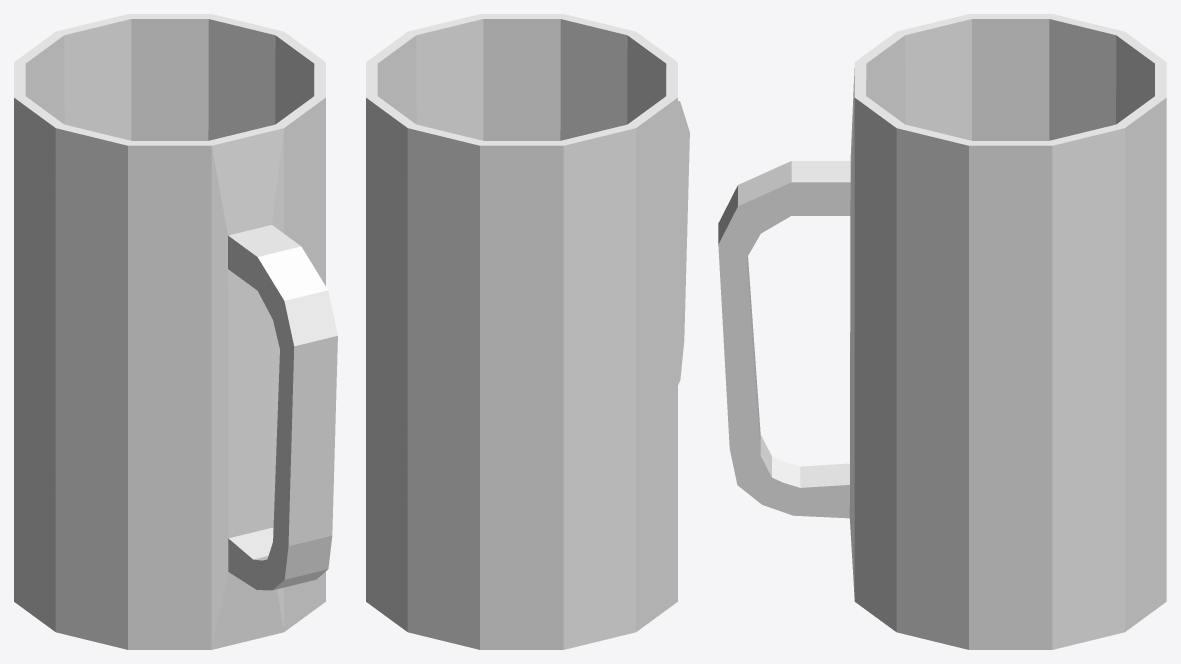
File: beer_mug_empty.obj
The picture shows the model from 3 angles, left to right: view 1: azimuth 30°, elevation 25°; view 2: azimuth 150°, elevation 25°; view 3: azimuth 270°, elevation 25°; orthographic projection.
Parts seen in each view (by area): view 1: liquid; view 2: liquid; view 3: liquid.
Boxes of the visible parts, box(x1,y1,x2,y2) form: liquid: box(14, 14, 337, 649); liquid: box(366, 14, 689, 649); liquid: box(718, 14, 1166, 649).
Size of the model in its own units: 0.2313 by 0.4125 by 0.3324.
1 material, 1 textured.
